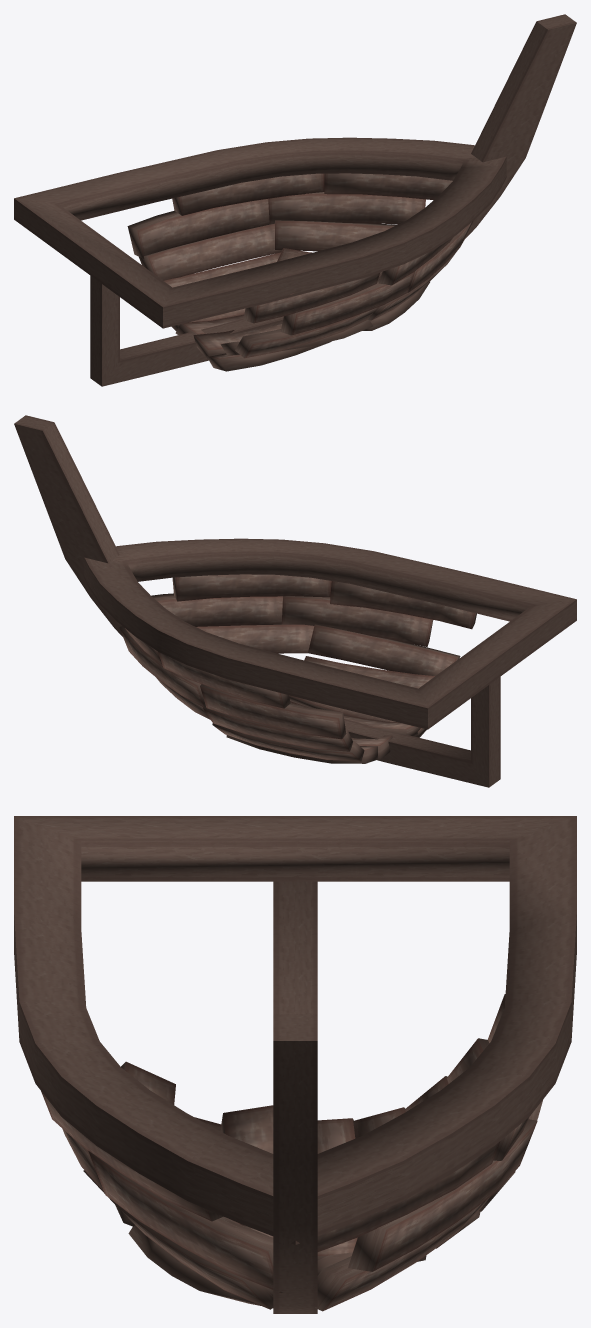
File: mdlCoastShipwreck.fbx
3 views of the same model, one above another, from view 1: azimuth 30°, elevation 25°; view 2: azimuth 150°, elevation 25°; view 3: azimuth 270°, elevation 25° (orthographic). The views are drawn at different scales.
Parts seen in each view (by area): view 1: Shipwreck; view 2: Shipwreck; view 3: Shipwreck.
Part boxes in pixels (x1,y1,x2,y2): Shipwreck: (14, 14, 576, 386); Shipwreck: (14, 415, 576, 787); Shipwreck: (14, 816, 576, 1313).
Size of the model in its own units: 2207 by 1084 by 1180.
